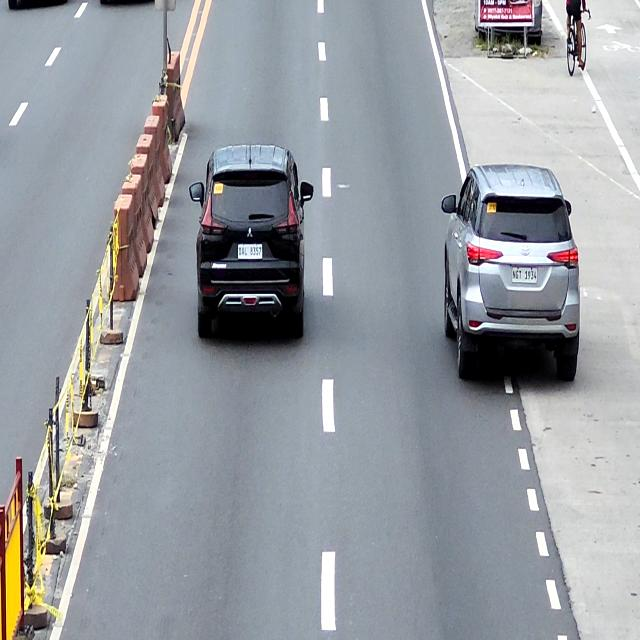Bicycle: (565, 8, 591, 78)
Car: (442, 166, 582, 386), (189, 146, 314, 341)
License-Plate: (237, 243, 263, 260), (512, 267, 538, 284)
